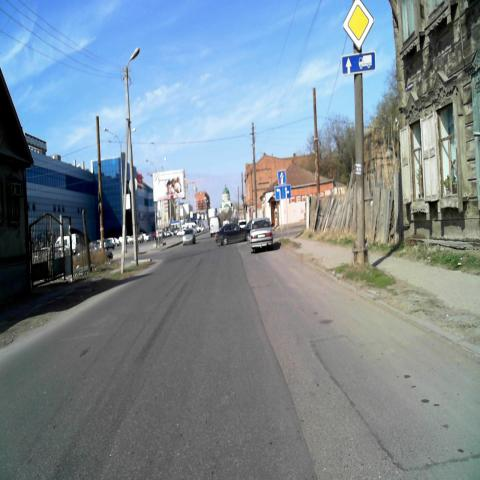6_15_1: (342, 51, 375, 74)
